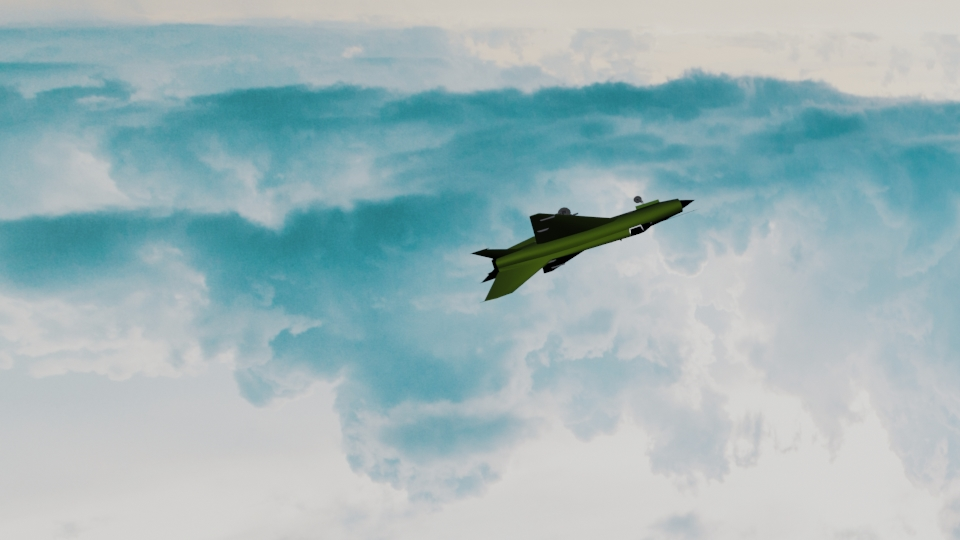plane: (475, 193, 693, 298)
